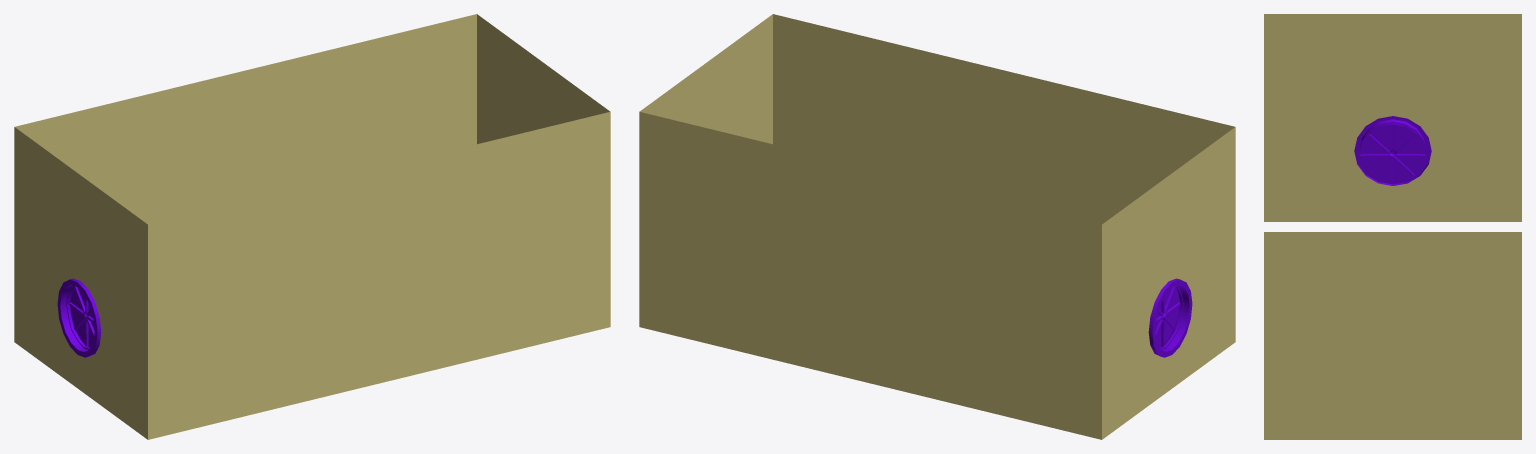
File: Middle.fbx
3 renders of one model, left to right at view 1: azimuth 30°, elevation 25°; view 2: azimuth 150°, elevation 25°; view 3: azimuth 270°, elevation 25°, orthographic. The views are drawn at different scales.
Parts seen in each view (by area): view 1: TallHouse.028; view 2: TallHouse.028; view 3: TallHouse.028.
Boxes of the visible parts, left/top/right/bottom form: TallHouse.028: left=14, top=14, right=610, bottom=439; TallHouse.028: left=639, top=14, right=1235, bottom=439; TallHouse.028: left=1264, top=14, right=1521, bottom=439.
Size of the model in its own units: 8.06 by 3.56 by 4.
